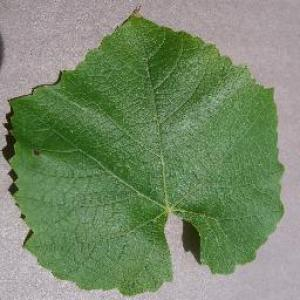Folha: (2, 5, 285, 296)
